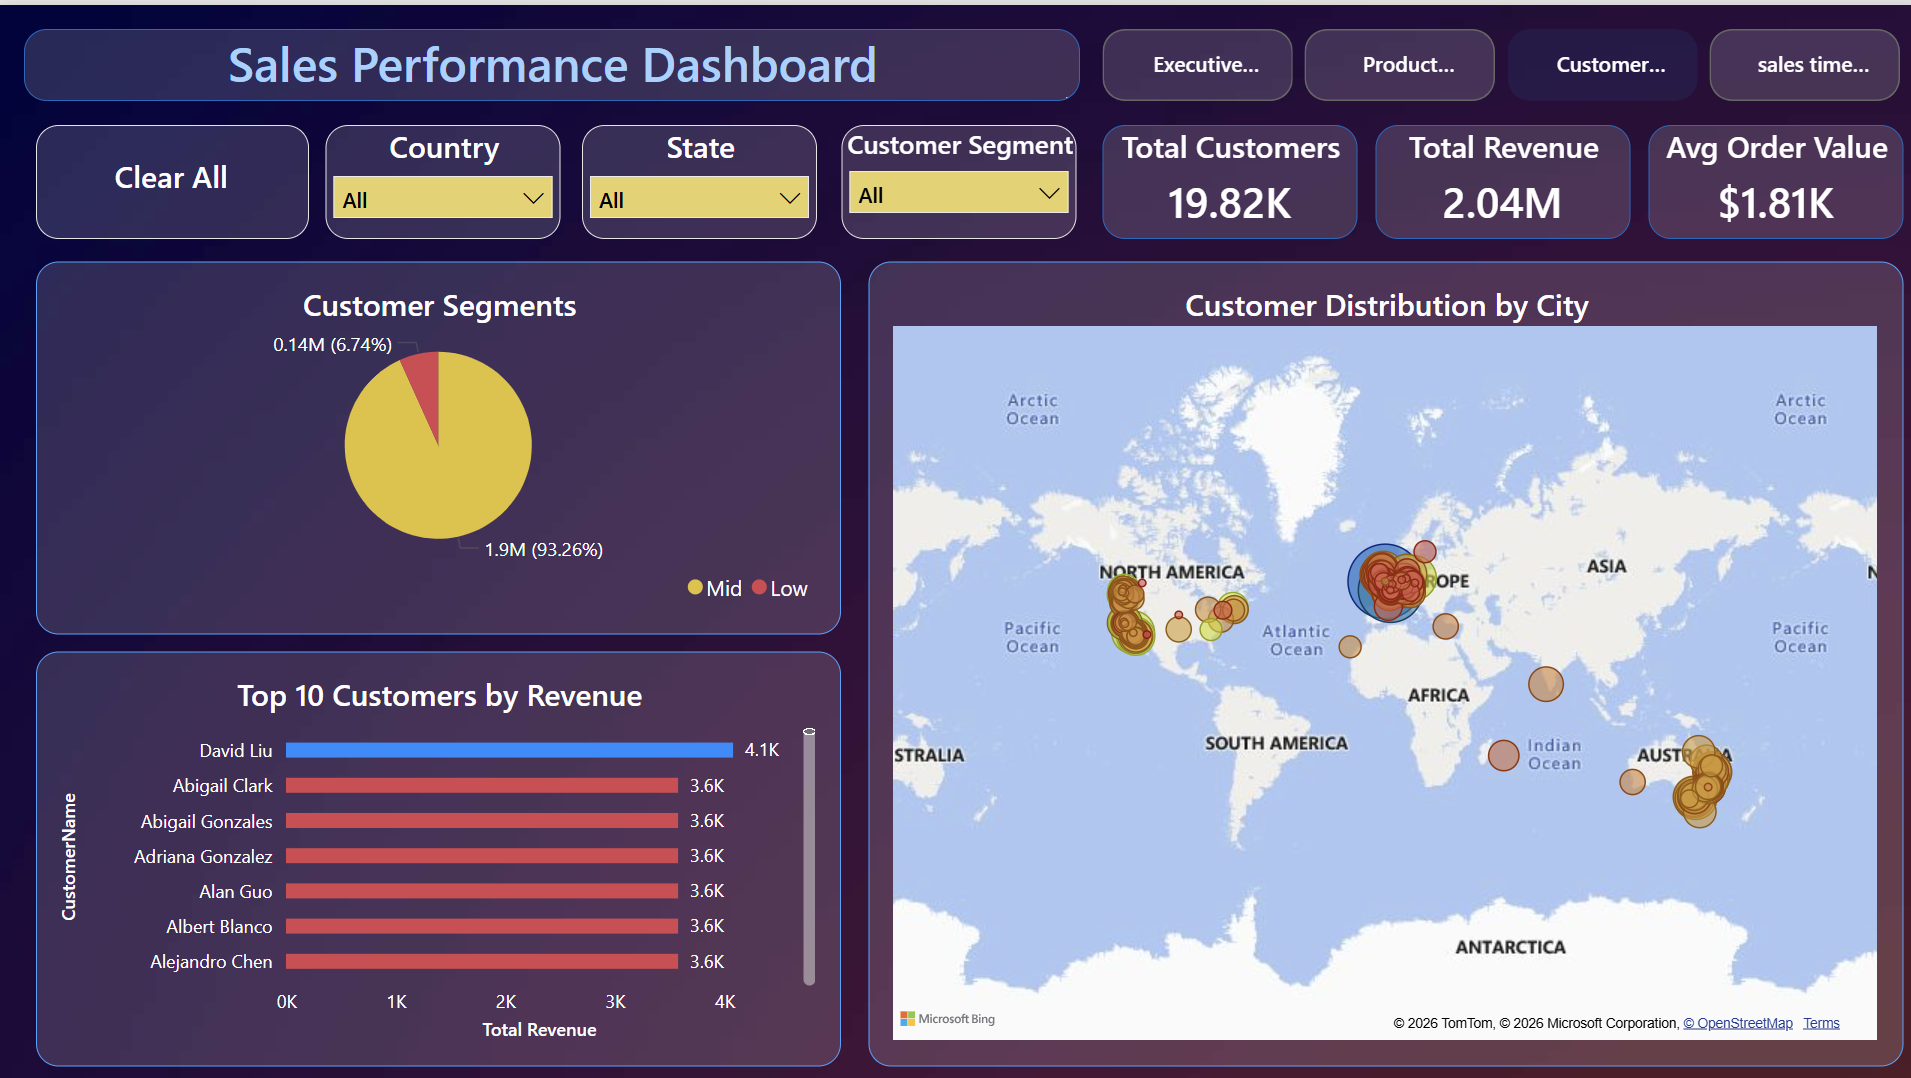

The dashboard page shown, as its layout file describes it:
{"tool":"powerbi","page":{"name":"Customer Analysis","canvas":[1280,720],"ordinal":2},"visuals":[{"type":"textbox","title":"Sales Performance Dashboard","box":[16,16,704,48],"z":0},{"type":"pageNavigator","box":[735,16,534,48],"z":1000},{"type":"slicer","title":"Country","fields":{"Values":["Customer_view.Country"]},"box":[217,80,157,76],"z":2000},{"type":"slicer","title":"State","fields":{"Values":["Customer_view.State"]},"box":[388,80,157,76],"z":3000},{"type":"slicer","title":"Customer Segment  ","fields":{"Values":["Customer_view.Customer Segment"]},"box":[561,80,157,76],"z":4000},{"type":"card","title":"Total Customers","fields":{"Values":["Customer_view.Customer Count"]},"box":[735,80,170,76],"z":5000},{"type":"card","title":"Total Revenue","fields":{"Values":["Customer_view.Total Revenue"]},"box":[917,80,170,76],"z":6000},{"type":"card","title":"Avg Order Value","fields":{"Values":["Customer_view.Avg Order Value"]},"box":[1099,80,170,76],"z":7000},{"type":"pieChart","title":"Customer Segments","fields":{"Category":["Customer_view.Customer Segment"],"Y":["Customer_view.Total Revenue"]},"box":[24,171,537,249],"z":8000},{"type":"map","title":"Customer Distribution by City","fields":{"Category":["Customer_view.City"],"Size":["Customer_view.Total Customers"]},"box":[578.8,171.2,690,536.2],"z":9000},{"type":"clusteredBarChart","title":"Top 10 Customers by Revenue","fields":{"Category":["Customer_view.CustomerName"],"Y":["Customer_view.Total Revenue"]},"box":[24,431,537,277],"z":10000},{"type":"actionButton","title":"Clear All","box":[24,80,182,76],"z":11000}]}

Visuals, with their boxes in screenshot pixels (x1, y1, x2, y2), scaled from the page's 1280x720 canvas onto the 1911x1078 screenshot:
"Sales Performance Dashboard" textbox: [x1=24, y1=24, x2=1075, y2=96]
pageNavigator: [x1=1097, y1=24, x2=1895, y2=96]
"Country" slicer: [x1=324, y1=120, x2=558, y2=234]
"State" slicer: [x1=579, y1=120, x2=814, y2=234]
"Customer Segment  " slicer: [x1=838, y1=120, x2=1072, y2=234]
"Total Customers" card: [x1=1097, y1=120, x2=1351, y2=234]
"Total Revenue" card: [x1=1369, y1=120, x2=1623, y2=234]
"Avg Order Value" card: [x1=1641, y1=120, x2=1895, y2=234]
"Customer Segments" pieChart: [x1=36, y1=256, x2=838, y2=629]
"Customer Distribution by City" map: [x1=864, y1=256, x2=1894, y2=1059]
"Top 10 Customers by Revenue" clusteredBarChart: [x1=36, y1=645, x2=838, y2=1060]
"Clear All" actionButton: [x1=36, y1=120, x2=308, y2=234]
